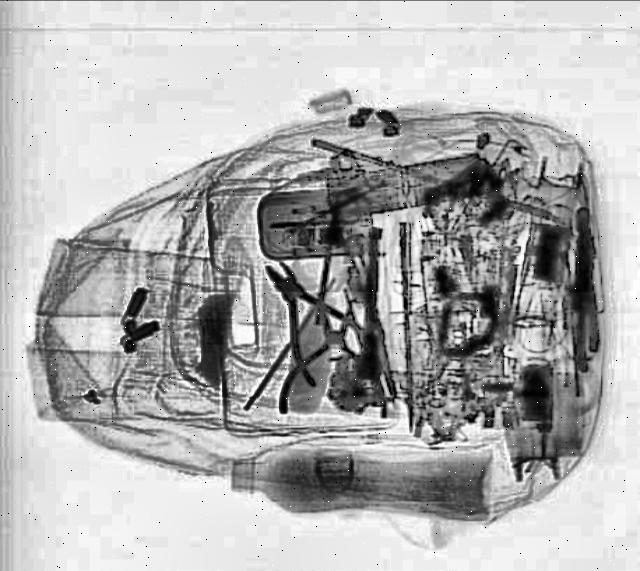Pliers: (230, 244, 382, 386), (276, 286, 388, 417), (562, 206, 602, 370)
